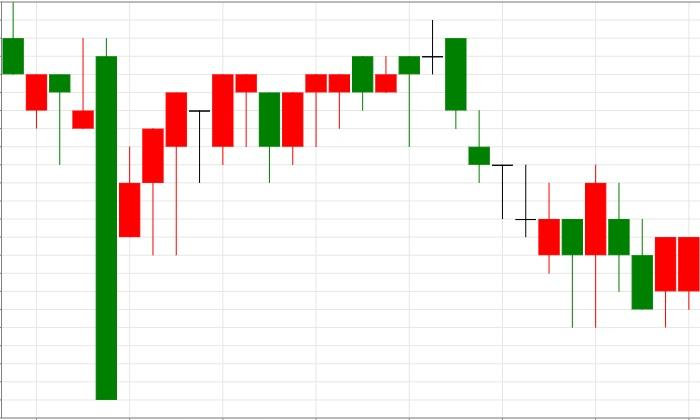hammer_rise: (422, 19, 583, 327)
